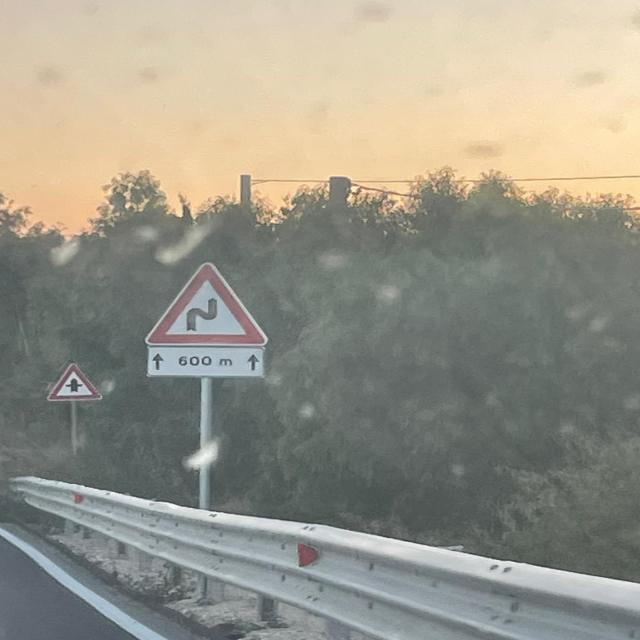warn_double_curve: (142, 259, 269, 346)
